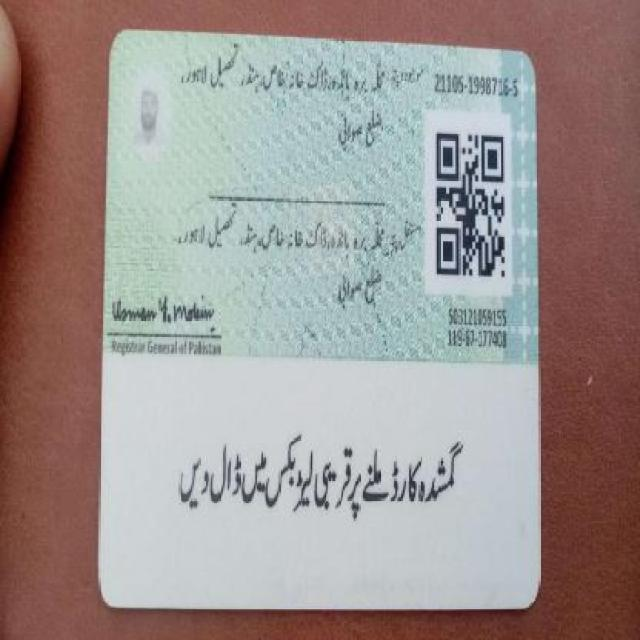Back: (95, 20, 552, 614)
